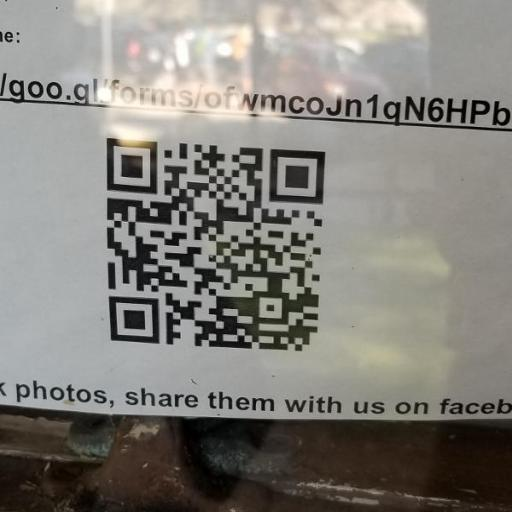qr_code: (106, 138, 326, 351)
